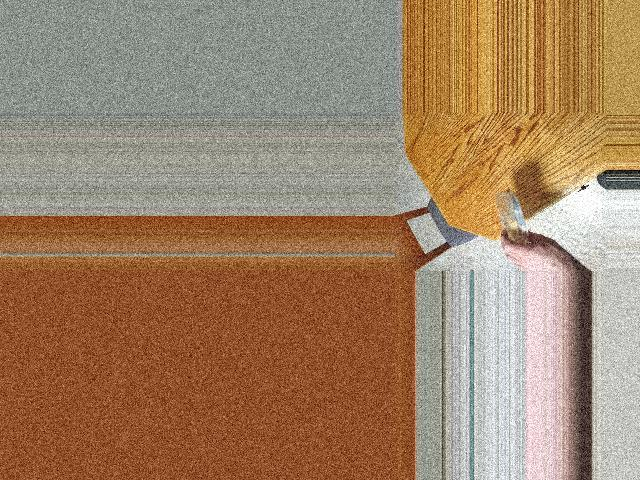cheese: (491, 198, 531, 243)
